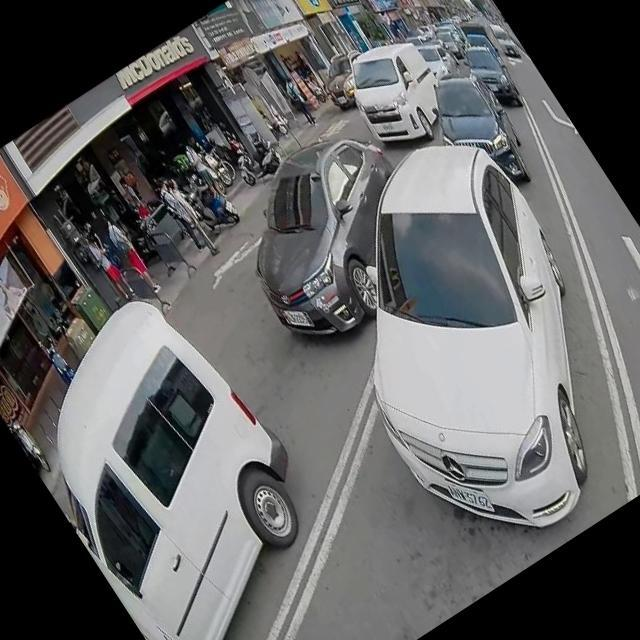person: (92, 204, 164, 298), (157, 173, 222, 260), (75, 226, 136, 306), (178, 136, 228, 202), (278, 76, 317, 128), (115, 171, 152, 218)
